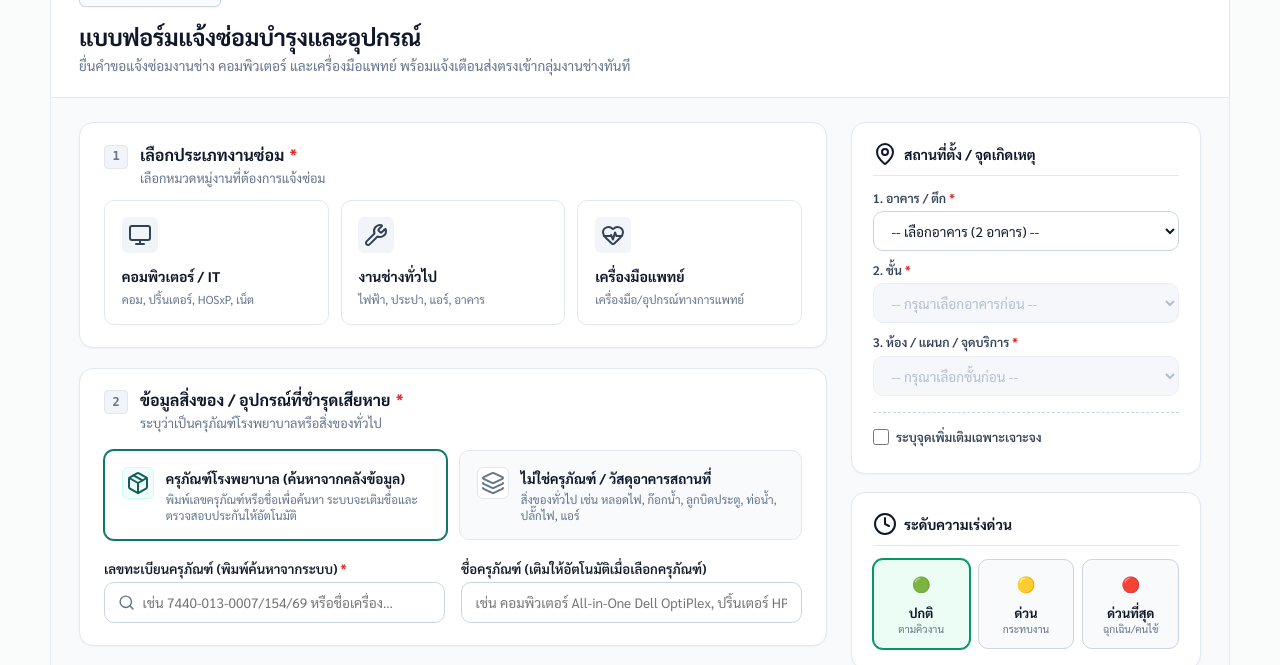
RepairFormClient Component (Hallmark Anti-AI-Slop Redesign) › submits successfully and renders receipt card with ticket number
This screenshot has width=1280, height=665.
// Select repair category
Click the radio button labelled "คอมพิวเตอร์ / IT คอม, ปริ้นเตอร์, HOSxP, เน็ต": {"x": 216, "y": 262} [104,200,329,325]
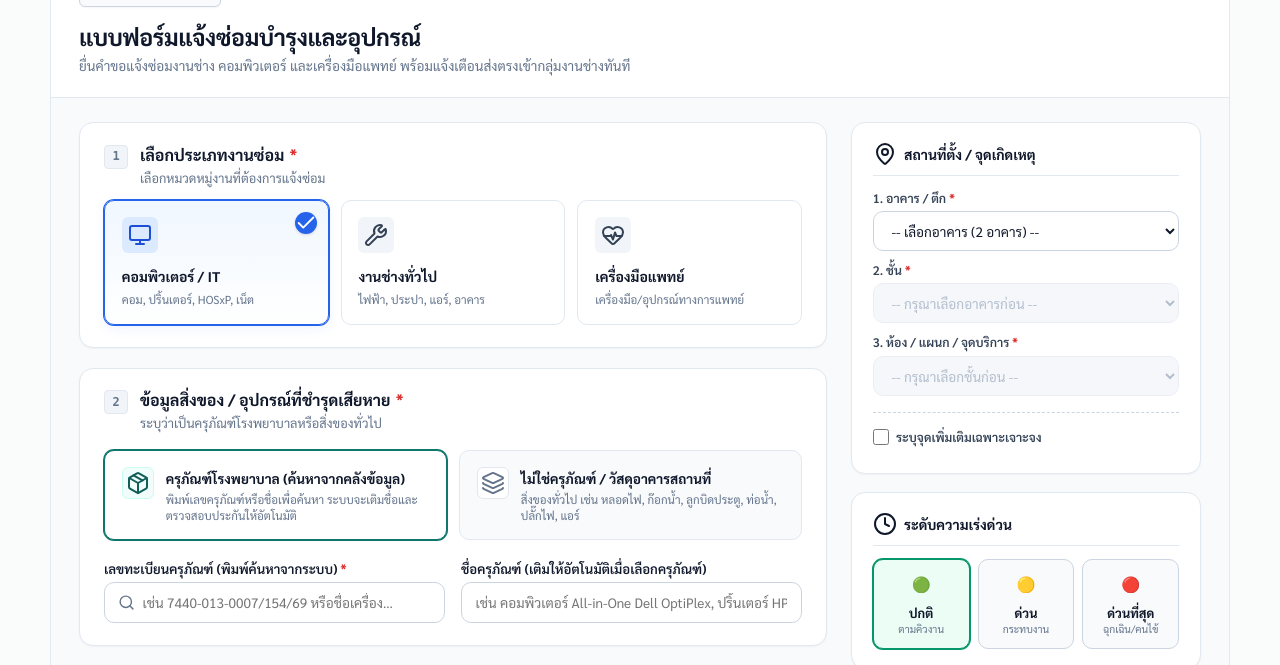
// Fill equipment name
In the field with placeholder "เช่น คอมพิวเตอร์ All-in-One Dell OptiPlex, ปริ้นเตอร์ HP": {"x": 632, "y": 603} [461,582,802,623], type "คอมพิวเตอร์ Dell All-in-One"
// Select location
Select "อาคารผู้ป่วยนอก (OPD)" in the dropdown labelled "1. อาคาร / ตึก *": {"x": 1026, "y": 231} [873,211,1179,251]
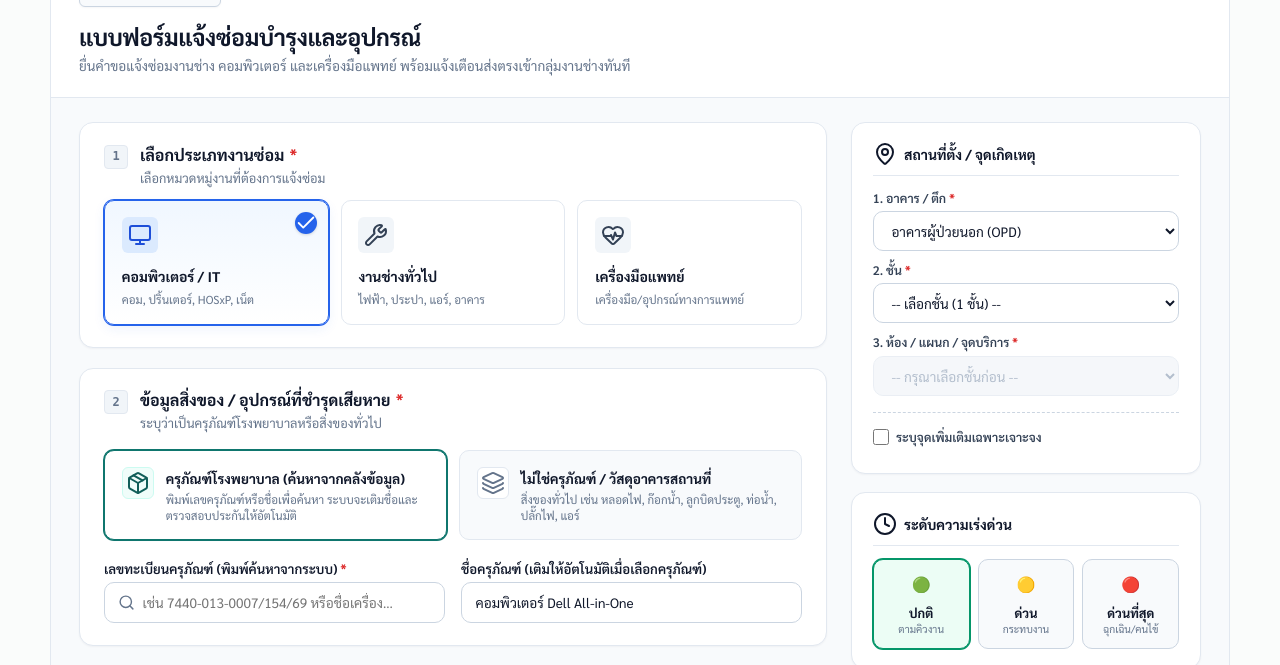
Select "ชั้น 1" in the dropdown labelled "2. ชั้น *": {"x": 1026, "y": 303} [873,283,1179,323]
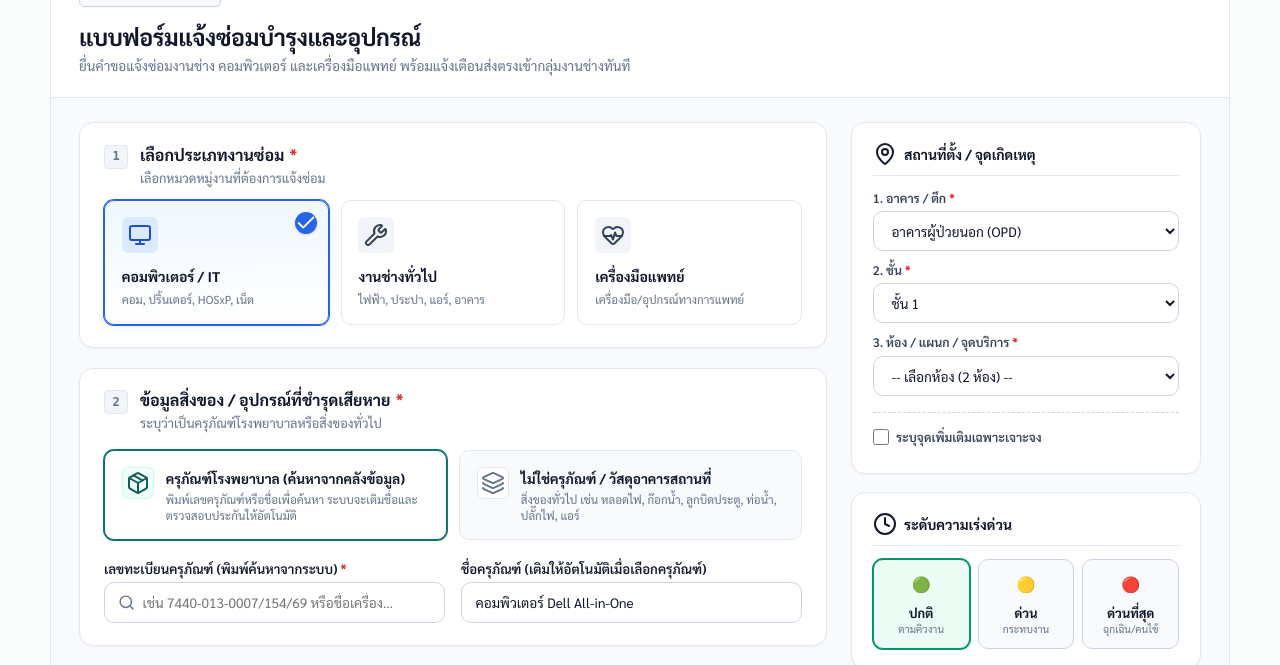
Select "ห้องตรวจ 1" in the dropdown labelled "3. ห้อง / แผนก / จุดบริการ *": {"x": 1026, "y": 376} [873,356,1179,396]
(page scrolled)
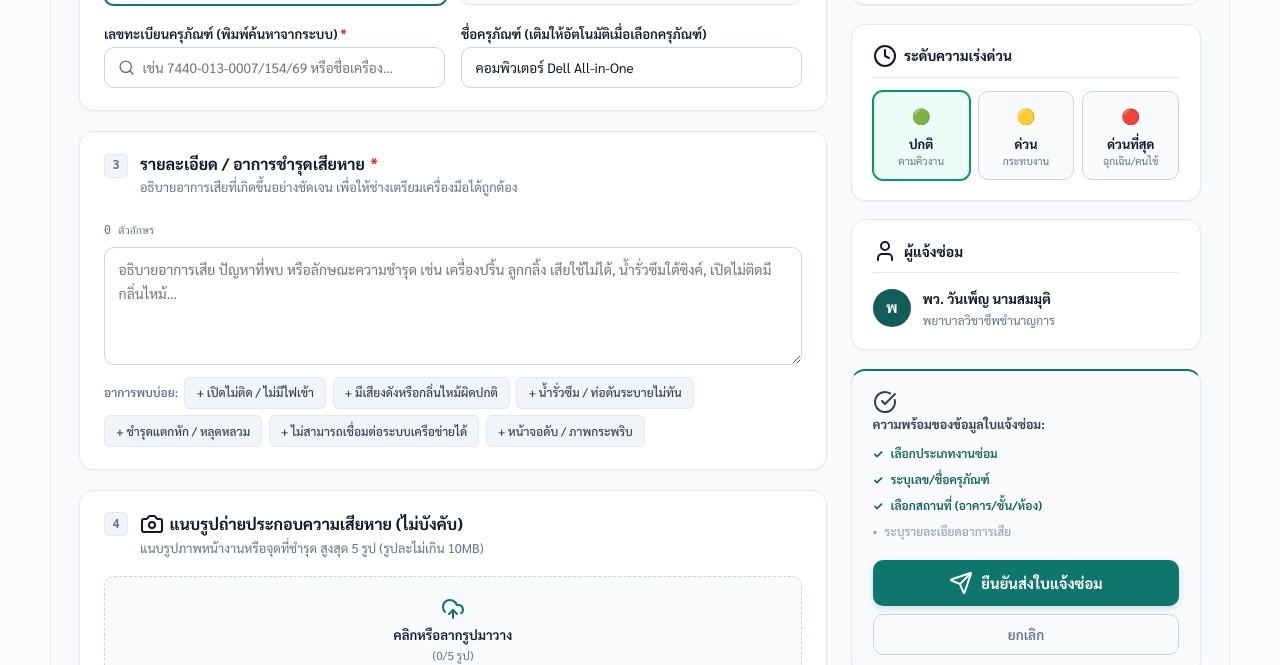
// Enter symptom
Replace the text in the text box with placeholder "อธิบายอาการเสีย ปัญหาที่พบ" with "เปิดเครื่องแล้วหน้าจอมืดสนิท ไม่มีไฟสถานะขึ้น": {"x": 453, "y": 306} [104,247,802,365]
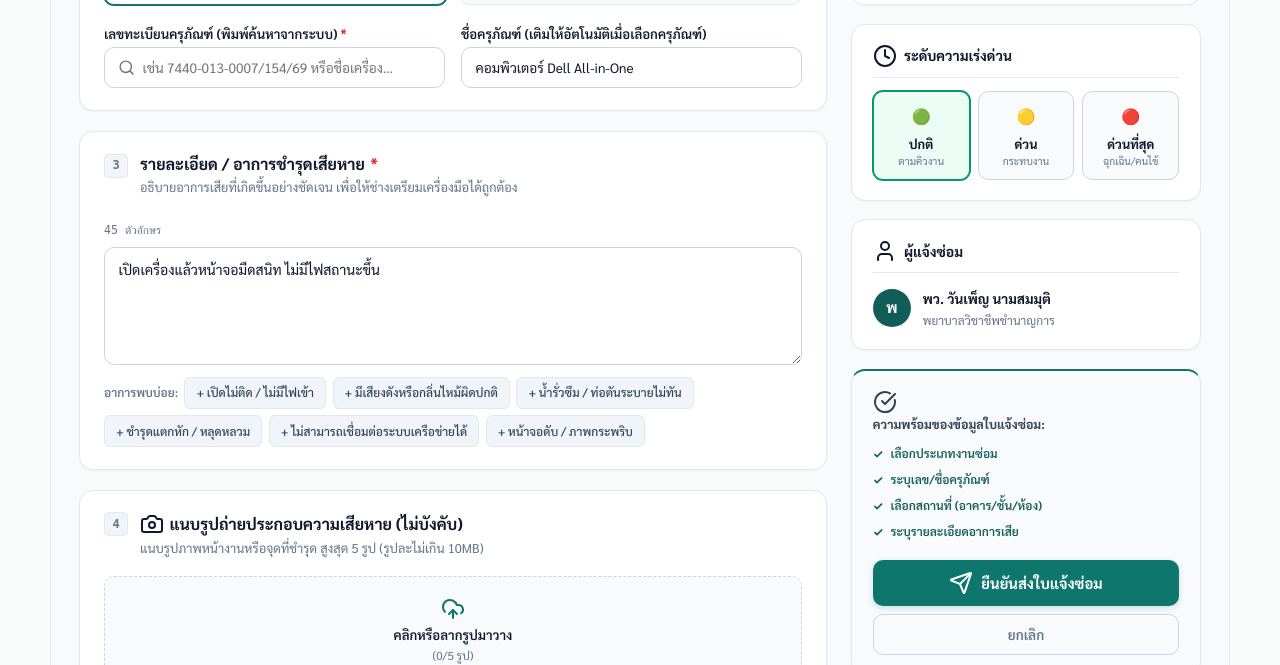
// Submit form
Click the button "ยืนยันส่งใบแจ้งซ่อม": {"x": 1026, "y": 583} [873,560,1179,606]
(page scrolled)
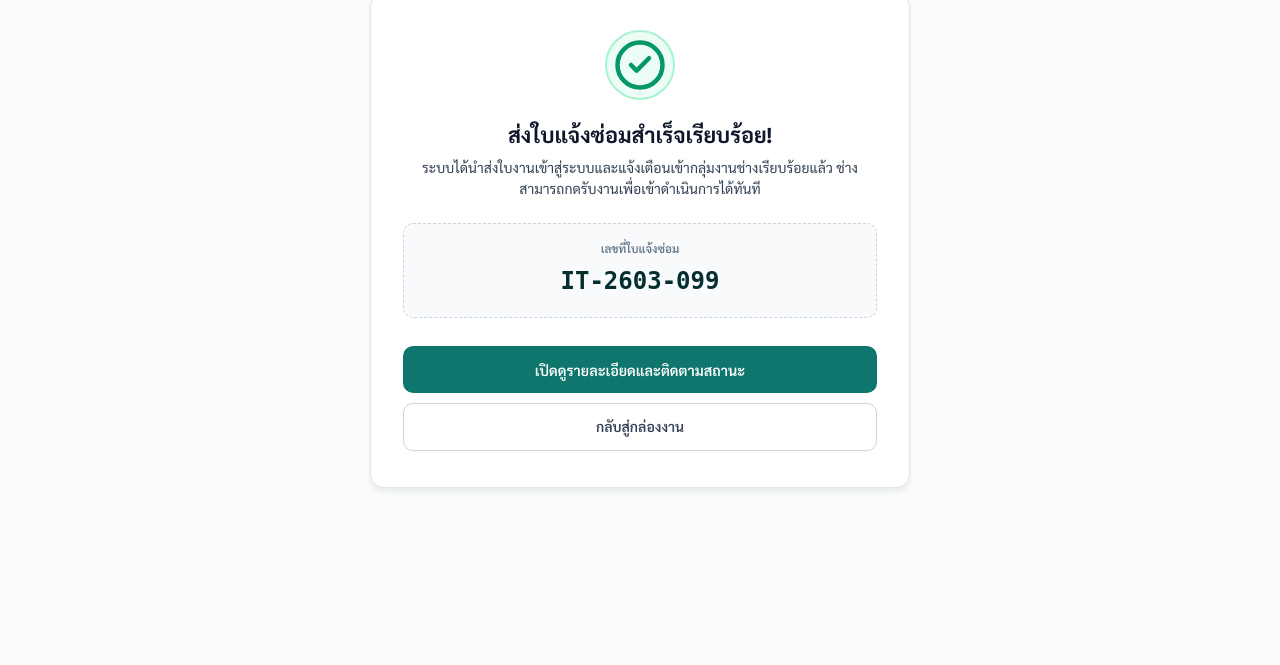
expect the heading "ส่งใบแจ้งซ่อมสำเร็จเรียบร้อย!" is shown: met, box [508,120,772,148]
expect the text "IT-2603-099" is shown: met, box [560,267,720,295]
expect the link "เปิดดูรายละเอียดและติดตามสถานะ" is shown: met, box [403,346,877,393]
